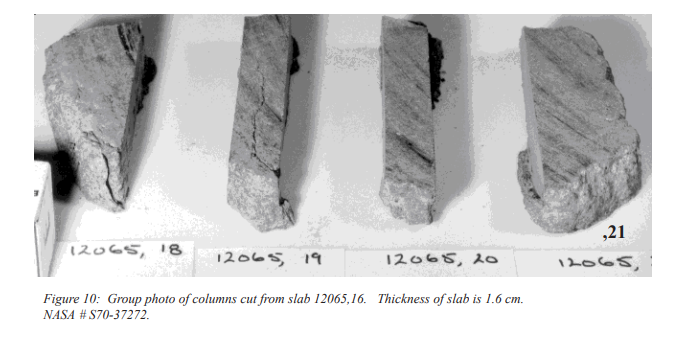Basalt: (497, 11, 645, 249), (39, 15, 168, 219), (358, 15, 464, 245), (221, 11, 315, 232)
